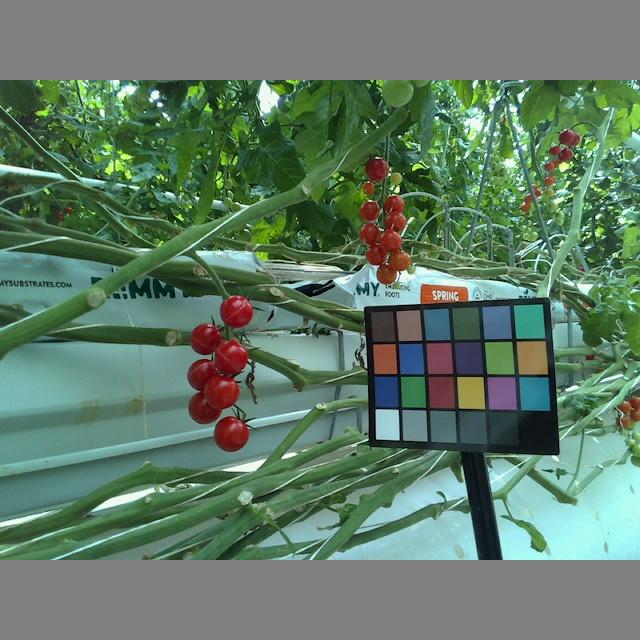green: (382, 81, 415, 109)
pink: (363, 156, 390, 179), (375, 259, 398, 285), (387, 248, 412, 271), (356, 222, 380, 245), (380, 229, 404, 252), (358, 199, 380, 221), (366, 243, 387, 264), (383, 195, 405, 215), (383, 212, 407, 230), (362, 181, 376, 195)
red: (211, 339, 249, 374), (201, 375, 238, 409), (185, 357, 220, 392), (215, 414, 249, 450), (218, 293, 253, 327), (190, 385, 221, 423), (187, 323, 222, 356)
